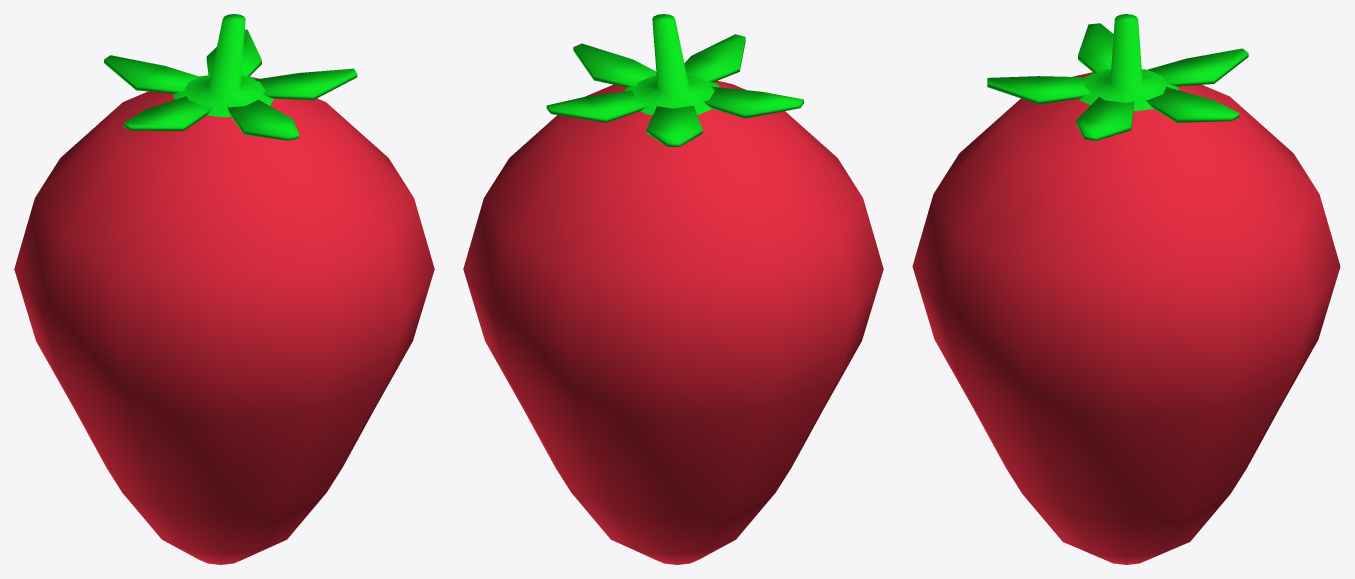
The model's file is strawberry.fbx.
3 views of the same model, side by side, from view 1: azimuth 30°, elevation 25°; view 2: azimuth 150°, elevation 25°; view 3: azimuth 270°, elevation 25° (orthographic).
Parts seen in each view (by area): view 1: strawberry; view 2: strawberry; view 3: strawberry.
Boxes of the visible parts, left/top/right/bottom form: strawberry: left=14, top=14, right=434, bottom=564; strawberry: left=463, top=14, right=883, bottom=564; strawberry: left=912, top=14, right=1340, bottom=564.
Bounding box in the file's own units: 51.58 × 72 × 51.58.
